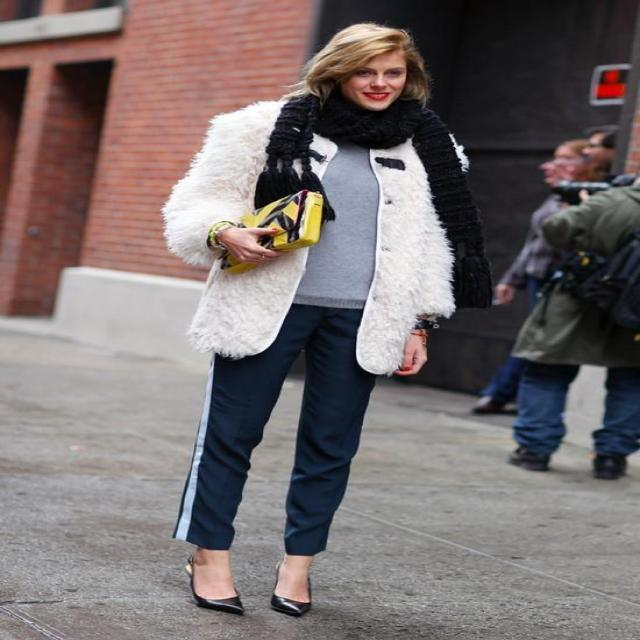pants: (170, 304, 383, 556)
sweater: (160, 94, 454, 375)
